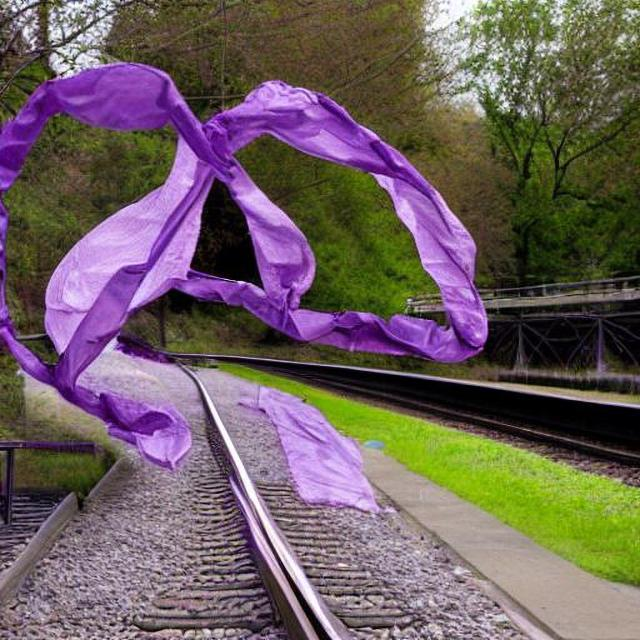floating object: (0, 61, 484, 516)
